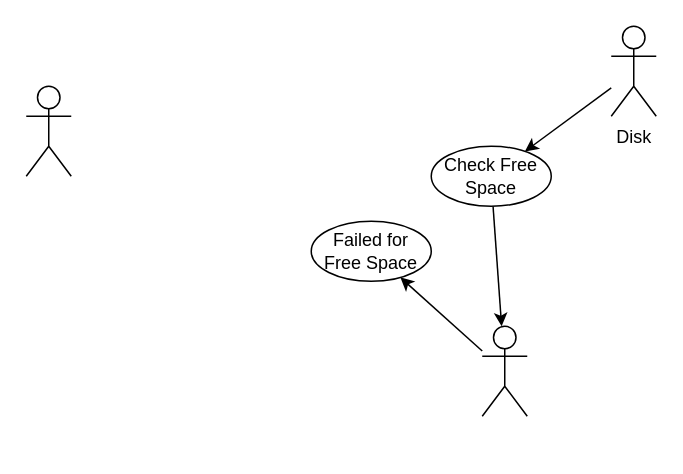
Some shapes in this 683 by 474 pixel diagram are drawn without their labels. The shapes that lost their labels are listed below. From the top down, each one's centre as x and y in pixels, then its label:
At (48,130): "File".
At (504,370): "Verification".
